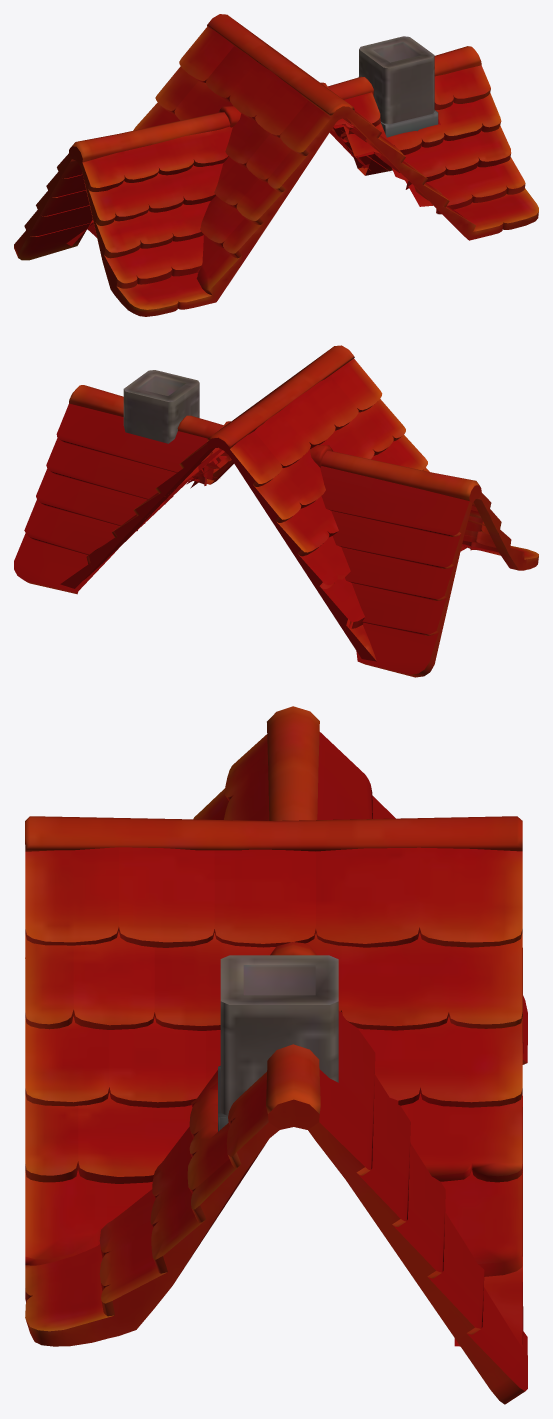
File: roof-pa04-standard.glb
3 renders of one model, top to bottom at view 1: azimuth 30°, elevation 25°; view 2: azimuth 150°, elevation 25°; view 3: azimuth 270°, elevation 25°, orthographic. The views are drawn at different scales.
Bounding box in the file's own units: 49.99 × 22.67 × 26.17.
Materials: 1 (1 with a texture image).
